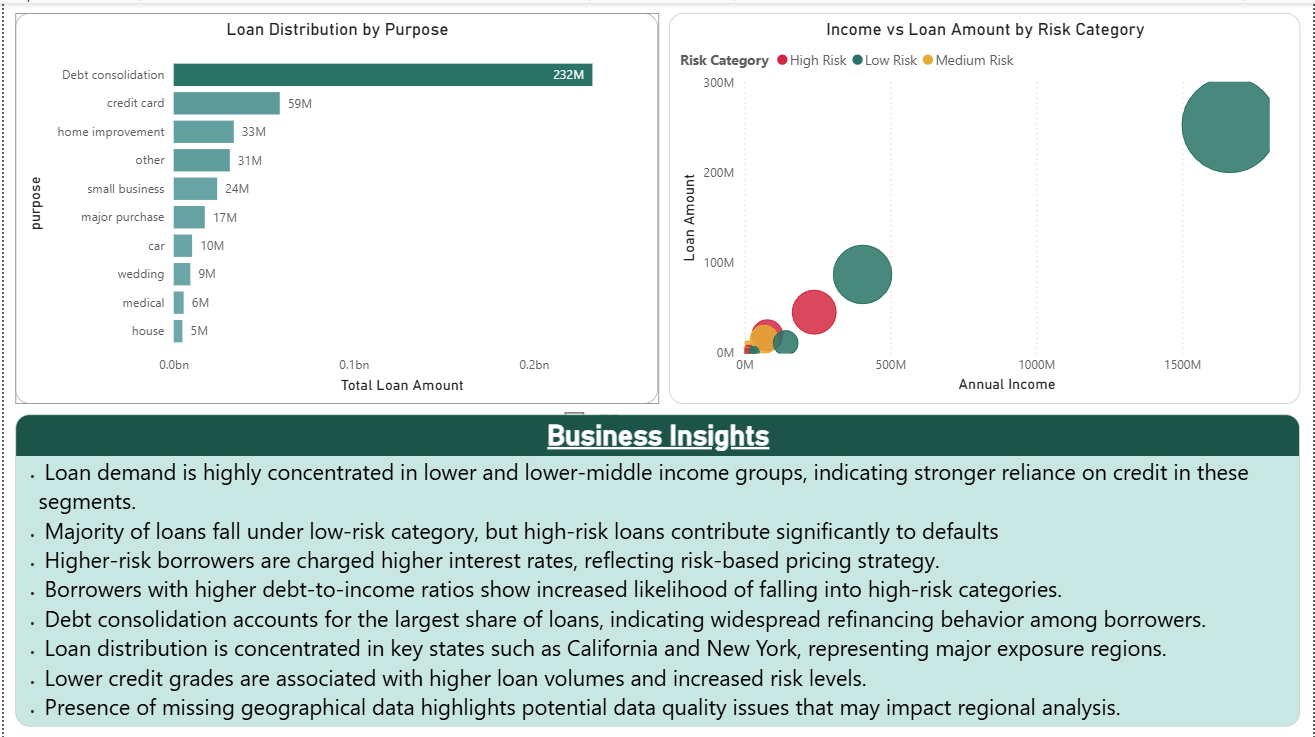

Layout of this report page (visuals, bound fields, positions):
{"tool":"powerbi","page":{"name":"Insights","canvas":[1280,720],"ordinal":2},"visuals":[{"type":"clusteredBarChart","title":"Loan Distribution by Purpose","fields":{"Y":["bank_loan_project clean_loans.Total_loan"],"Category":["bank_loan_project clean_loans.purpose"]},"box":[11.5,10.1,629,382.3],"z":0},{"type":"scatterChart","title":"Income vs Loan Amount by Risk Category","fields":{"X":["Sum(bank_loan_project clean_loans.annual_income)"],"Y":["Sum(bank_loan_project clean_loans.loan_amount)"],"Series":["bank_loan_project clean_loans.Risk_category"],"Category":["bank_loan_project clean_loans.Income Group"],"Size":["bank_loan_project clean_loans.Total_loan"]},"box":[650.7,10.1,617.5,382.3],"z":1000},{"type":"textbox","title":"Business Insights","box":[11.5,402.5,1256.6,305.9],"z":2000}]}

Visuals, with their boxes in screenshot pixels (x1, y1, x2, y2), scaled from the page's 1280x720 canvas onto the 1315x737 screenshot:
"Loan Distribution by Purpose" clusteredBarChart: BBox(12, 10, 658, 402)
"Income vs Loan Amount by Risk Category" scatterChart: BBox(668, 10, 1303, 402)
"Business Insights" textbox: BBox(12, 412, 1303, 725)
